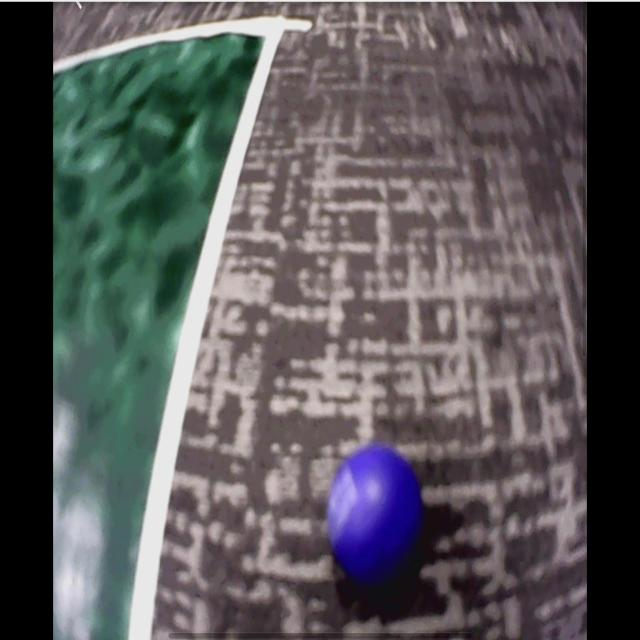ball: (329, 446, 422, 580)
